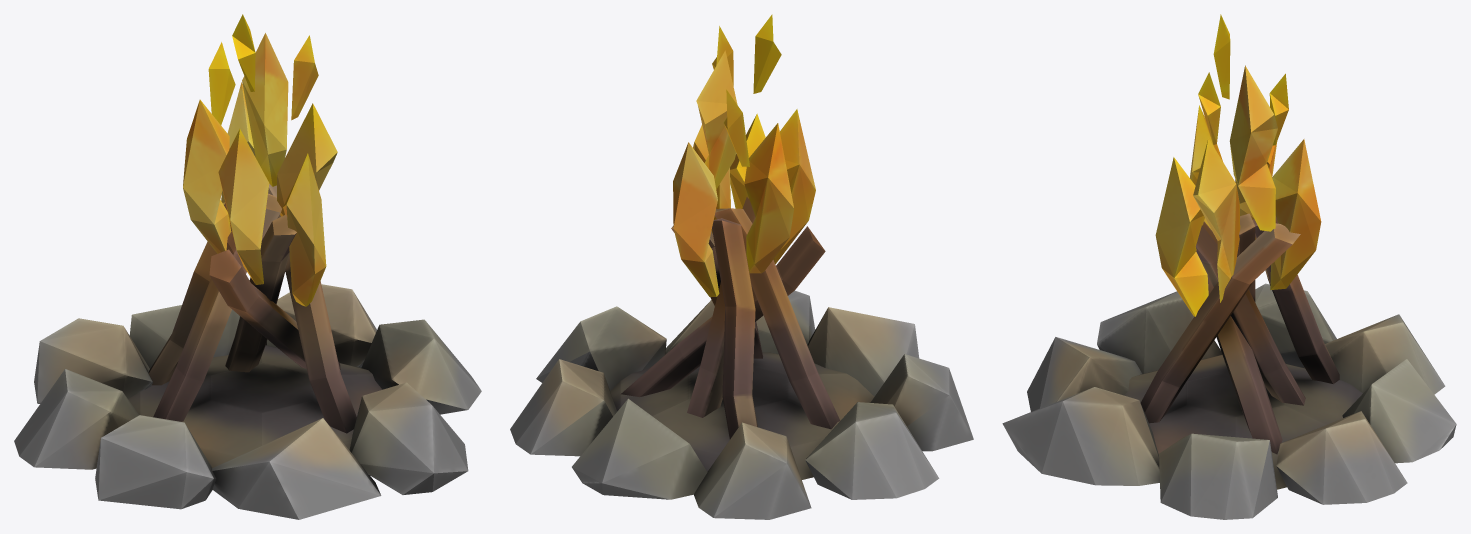
Rendered from Props_9.fbx.
The picture shows the model from 3 angles, left to right: view 1: azimuth 30°, elevation 25°; view 2: azimuth 150°, elevation 25°; view 3: azimuth 270°, elevation 25°; orthographic projection. The views are drawn at different scales.
Visible parts, largest first — view 1: Props_9; view 2: Props_9; view 3: Props_9.
Boxes of the visible parts, bbox=[...] form: Props_9: bbox=[14, 14, 481, 519]; Props_9: bbox=[510, 14, 973, 519]; Props_9: bbox=[1002, 14, 1456, 519].
Size of the model in its own units: 25.03 by 24.6 by 23.84.
1 material, 1 textured.
